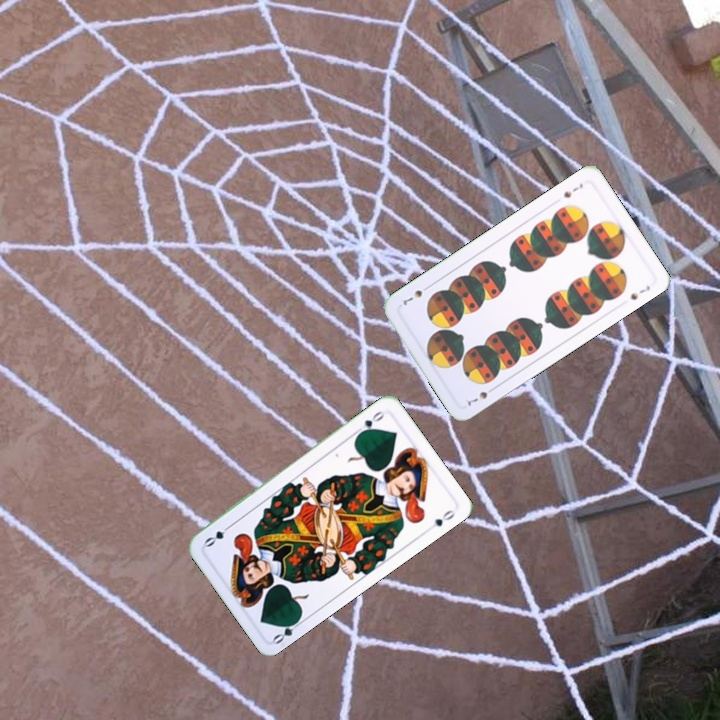GO: (269, 614, 306, 647), (352, 407, 387, 437)
S7: (463, 383, 498, 409), (559, 179, 586, 200)
